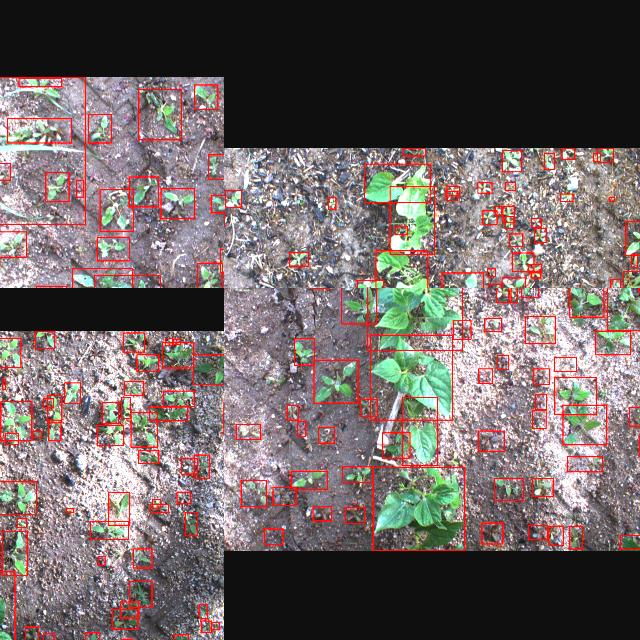crop: (373, 468, 465, 550), (370, 334, 452, 420), (367, 288, 462, 350), (390, 186, 434, 254), (364, 162, 430, 202), (402, 397, 438, 465), (376, 249, 428, 288)
weed: (0, 76, 85, 223), (138, 89, 182, 139), (314, 360, 358, 402), (563, 404, 607, 444), (7, 118, 71, 142), (554, 378, 596, 414), (607, 288, 640, 330), (100, 189, 132, 231), (1, 400, 32, 440), (341, 288, 376, 323), (0, 480, 37, 513), (73, 268, 133, 288), (2, 531, 28, 575), (161, 188, 195, 218), (570, 288, 604, 316), (193, 354, 224, 384), (129, 176, 159, 206), (131, 412, 157, 446), (94, 275, 160, 288), (525, 315, 555, 343), (596, 330, 630, 354), (97, 236, 129, 260), (162, 342, 194, 366), (90, 520, 128, 540), (382, 432, 410, 458), (291, 470, 327, 490), (108, 492, 130, 524), (241, 479, 267, 506), (88, 114, 112, 142), (494, 478, 524, 500), (441, 272, 482, 288), (0, 231, 26, 256), (197, 262, 222, 288), (0, 337, 21, 367), (46, 172, 68, 200), (130, 581, 152, 607), (96, 425, 124, 445), (195, 84, 218, 108), (568, 456, 602, 472), (149, 406, 187, 420), (112, 609, 138, 629), (294, 338, 314, 364), (478, 431, 504, 451), (625, 221, 640, 255), (163, 390, 194, 406), (342, 466, 372, 482), (502, 149, 522, 171), (482, 522, 502, 544), (272, 487, 296, 505), (123, 332, 145, 351), (208, 153, 224, 178), (132, 548, 152, 568), (18, 76, 62, 85), (512, 252, 534, 270), (532, 478, 554, 496), (48, 394, 62, 422), (194, 454, 210, 478), (137, 354, 159, 371), (236, 424, 260, 438), (36, 330, 54, 348), (360, 398, 378, 416), (453, 320, 471, 338), (64, 382, 80, 402), (102, 402, 118, 422), (345, 507, 365, 523), (548, 526, 564, 546), (554, 357, 576, 371), (623, 270, 640, 288), (121, 601, 139, 617), (185, 511, 197, 535), (264, 528, 282, 544), (528, 525, 548, 539), (620, 535, 640, 549), (125, 380, 144, 394), (313, 506, 332, 520), (502, 277, 526, 288), (570, 526, 582, 548), (181, 457, 197, 473), (318, 427, 334, 443), (534, 368, 550, 384), (290, 252, 308, 266), (49, 418, 61, 439), (484, 317, 502, 331), (532, 410, 546, 428), (356, 279, 383, 288), (139, 450, 159, 462), (226, 190, 240, 207), (211, 194, 224, 212), (597, 147, 613, 161), (629, 406, 640, 425), (483, 210, 497, 224), (479, 368, 493, 382), (496, 288, 511, 301), (502, 205, 514, 221), (25, 626, 38, 640), (403, 147, 425, 155), (0, 162, 10, 179), (534, 228, 546, 242), (122, 397, 130, 418), (150, 503, 168, 512), (544, 152, 554, 168), (288, 404, 298, 420), (536, 393, 546, 409), (510, 232, 522, 245), (177, 491, 190, 503), (521, 288, 538, 297), (200, 620, 212, 632), (5, 432, 18, 443), (478, 182, 492, 192), (498, 355, 508, 369), (76, 180, 84, 197), (446, 185, 459, 195), (298, 420, 306, 436), (446, 190, 458, 200), (562, 148, 574, 158), (508, 288, 517, 301), (528, 264, 542, 272), (85, 632, 99, 640), (199, 604, 207, 618), (611, 278, 621, 288), (328, 197, 336, 209), (560, 193, 572, 201), (395, 226, 407, 234), (506, 216, 514, 228), (18, 518, 27, 528), (43, 398, 53, 407), (173, 634, 188, 640), (531, 270, 541, 278), (531, 218, 541, 226), (505, 181, 515, 189), (152, 498, 160, 508), (210, 622, 220, 630), (43, 633, 54, 640), (631, 254, 637, 266), (488, 283, 501, 288), (487, 268, 495, 276), (32, 431, 42, 437), (495, 206, 501, 214), (594, 152, 600, 160), (98, 556, 104, 564), (165, 338, 172, 344), (173, 338, 180, 344), (2, 378, 6, 388), (66, 508, 74, 512), (610, 196, 614, 200)
